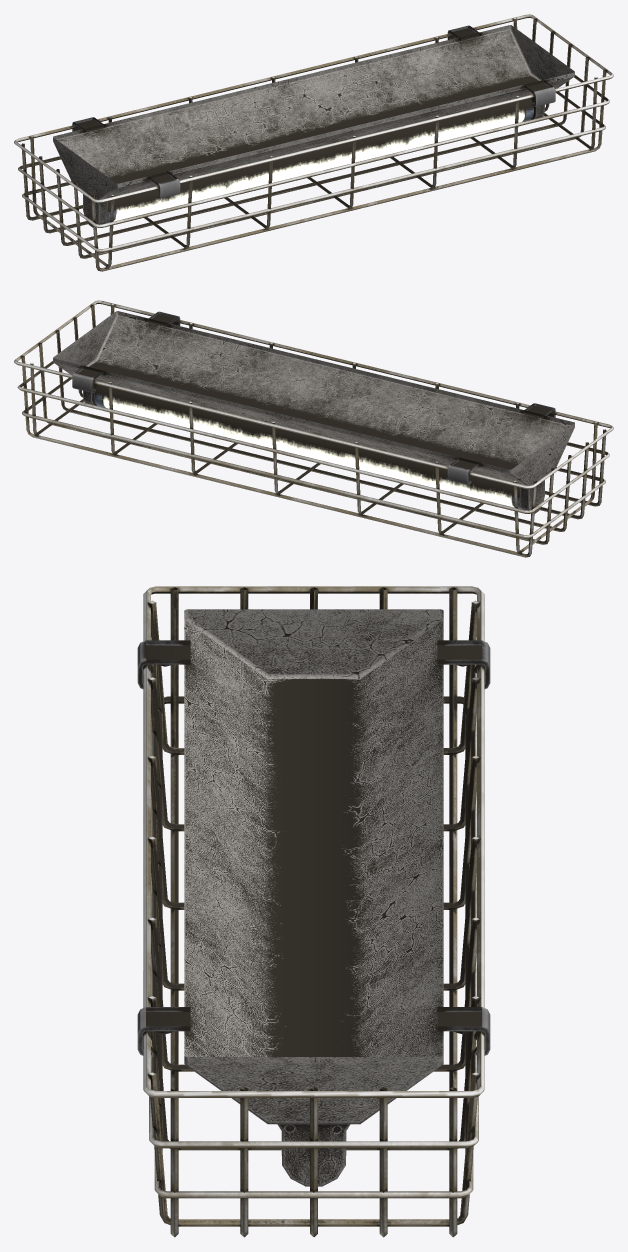
File: containerlamp.glb
3 renders of one model, top to bottom at view 1: azimuth 30°, elevation 25°; view 2: azimuth 150°, elevation 25°; view 3: azimuth 270°, elevation 25°, orthographic. The views are drawn at different scales.
Visible parts, largest first — view 1: 01__0; view 2: 01__0; view 3: 01__0.
Part boxes in pixels (x1,y1,x2,y2): 01__0: (14, 14, 613, 271); 01__0: (14, 300, 613, 557); 01__0: (137, 586, 490, 1237).
Bounding box in the file's own units: 1.06 × 0.1582 × 0.3099.
Materials: 1 (1 with a texture image).
